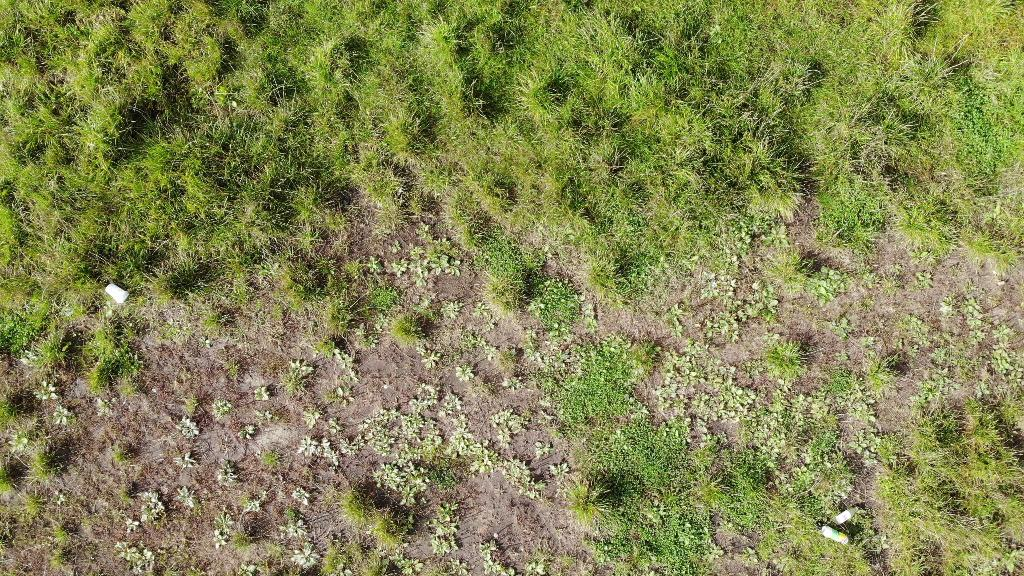garbage: (831, 500, 867, 527), (818, 521, 854, 545), (103, 279, 132, 306), (102, 280, 130, 306), (831, 507, 861, 526), (821, 525, 849, 545)
